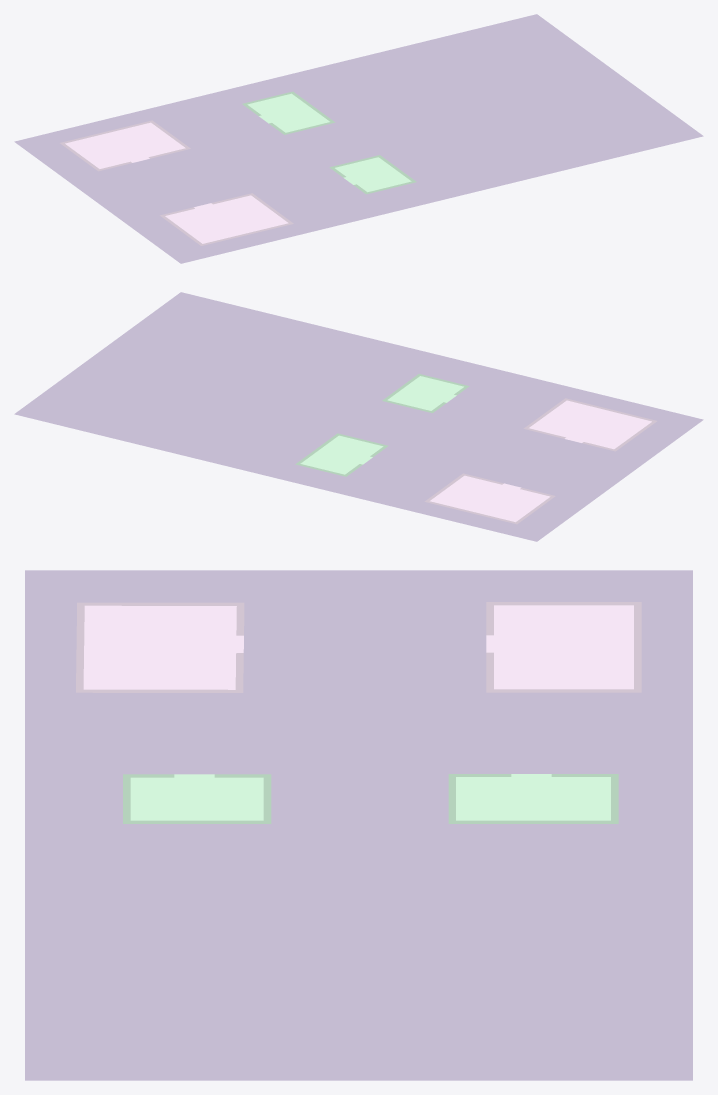
File: Building_1F.glb
The picture shows the model from 3 angles, top to bottom: view 1: azimuth 30°, elevation 25°; view 2: azimuth 150°, elevation 25°; view 3: azimuth 270°, elevation 25°; orthographic projection. The views are drawn at different scales.
Visible parts, largest first — view 1: Ground_node, Block_node, Facility_node; view 2: Ground_node, Block_node, Facility_node; view 3: Ground_node, Block_node, Facility_node.
Part boxes in pixels (x1=…): Ground_node: x1=14, y1=14, x2=703, y2=263; Block_node: x1=60, y1=120, x2=293, y2=245; Facility_node: x1=242, y1=91, x2=416, y2=194; Ground_node: x1=14, y1=292, x2=703, y2=541; Block_node: x1=424, y1=398, x2=656, y2=524; Facility_node: x1=295, y1=374, x2=469, y2=476; Ground_node: x1=25, y1=570, x2=692, y2=1080; Block_node: x1=76, y1=602, x2=641, y2=692; Facility_node: x1=123, y1=774, x2=618, y2=823.
Bounding box in the file's own units: 23.85 × 0.0134 × 13.19.
